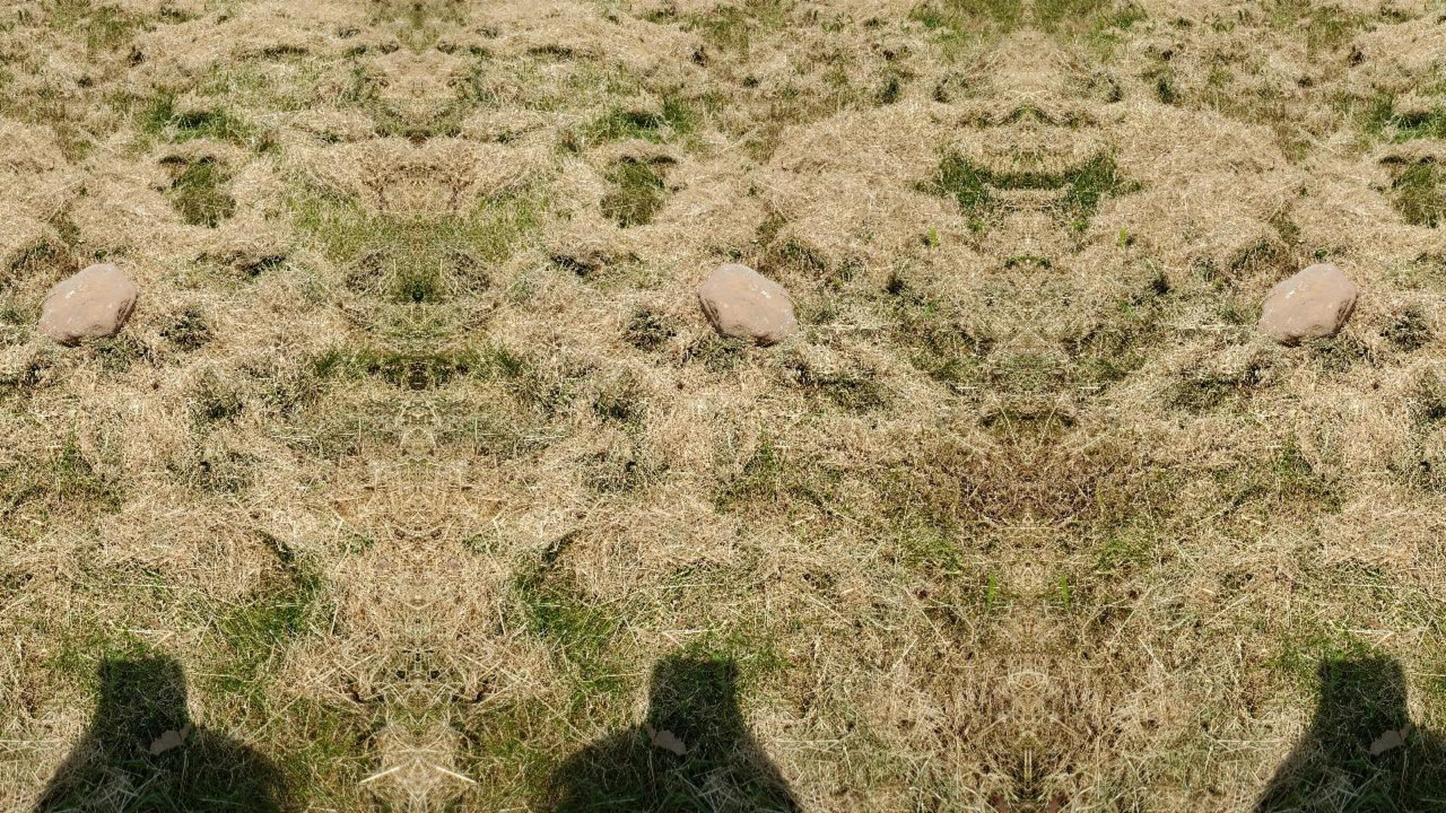rock: (38, 263, 139, 343), (1257, 263, 1358, 343), (696, 263, 796, 343)
